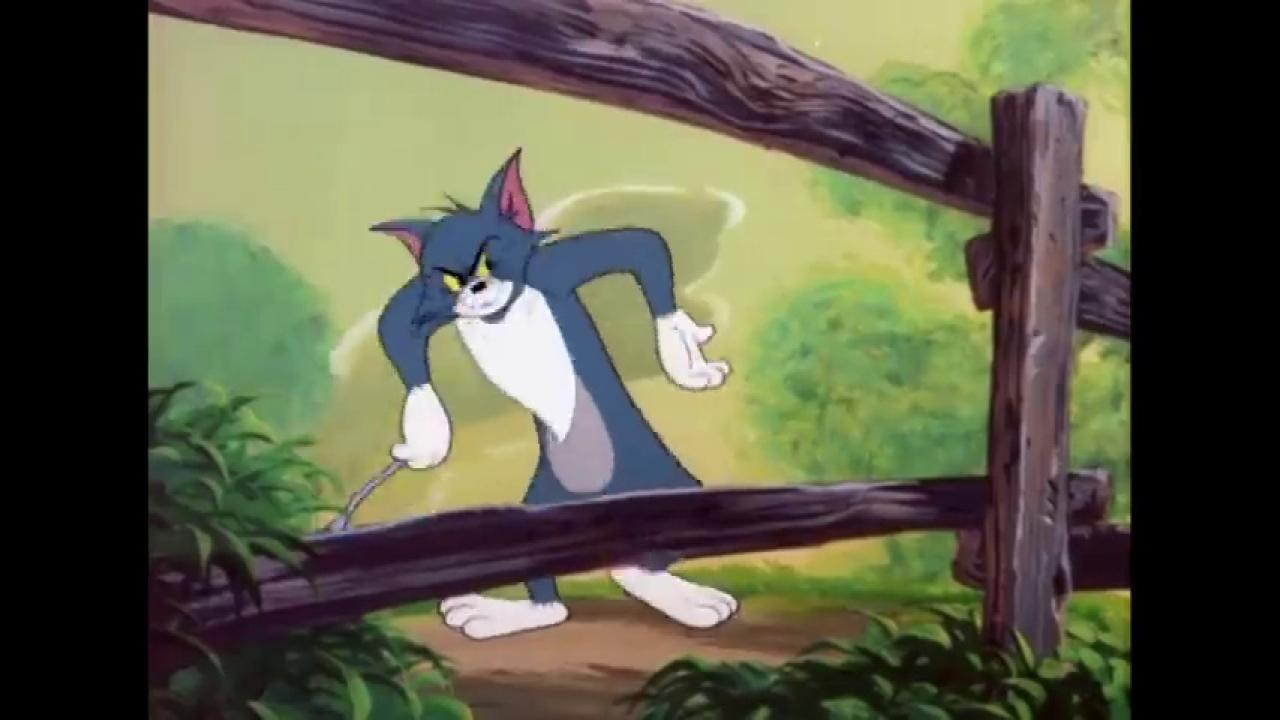Tom: (366, 143, 742, 642)
